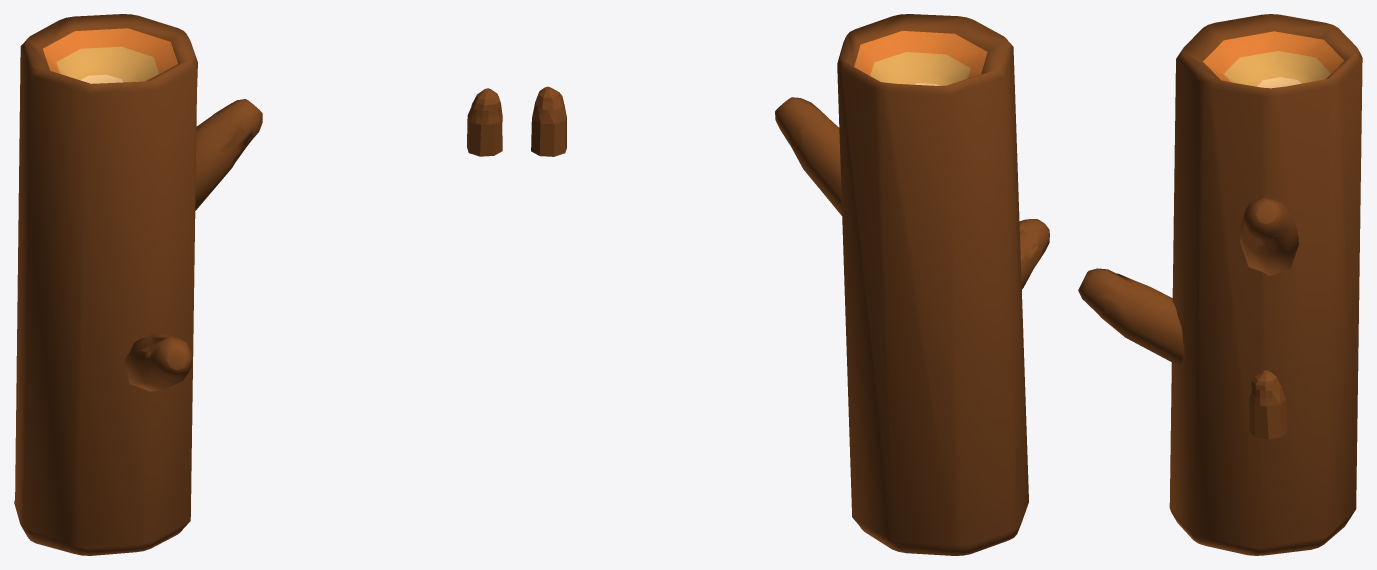
The picture shows the model from 3 angles, left to right: view 1: azimuth 30°, elevation 25°; view 2: azimuth 150°, elevation 25°; view 3: azimuth 270°, elevation 25°; orthographic projection.
Parts seen in each view (by area): view 1: Cylinder, Cylinder.001, Cylinder.003, Cylinder.002; view 2: Cylinder, Cylinder.001, Cylinder.002, Cylinder.003; view 3: Cylinder, Cylinder.003, Cylinder.001, Cylinder.002.
Part boxes in pixels (bbox=[...]): Cylinder: bbox=[14, 14, 197, 555]; Cylinder.001: bbox=[195, 99, 262, 210]; Cylinder.003: bbox=[124, 334, 192, 391]; Cylinder.002: bbox=[467, 88, 502, 156]; Cylinder: bbox=[837, 14, 1028, 555]; Cylinder.001: bbox=[775, 97, 842, 215]; Cylinder.002: bbox=[531, 86, 566, 156]; Cylinder.003: bbox=[1019, 219, 1049, 288]; Cylinder: bbox=[1169, 14, 1362, 555]; Cylinder.003: bbox=[1078, 268, 1184, 366]; Cylinder.001: bbox=[1240, 197, 1298, 275]; Cylinder.002: bbox=[1249, 370, 1287, 439].
Size of the model in its own units: 599 by 559 by 301.
